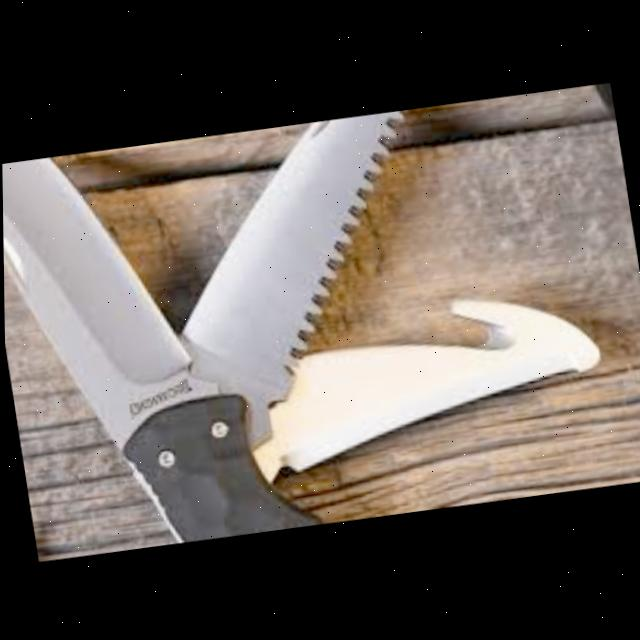knife: (1, 85, 624, 566), (151, 109, 449, 458)
